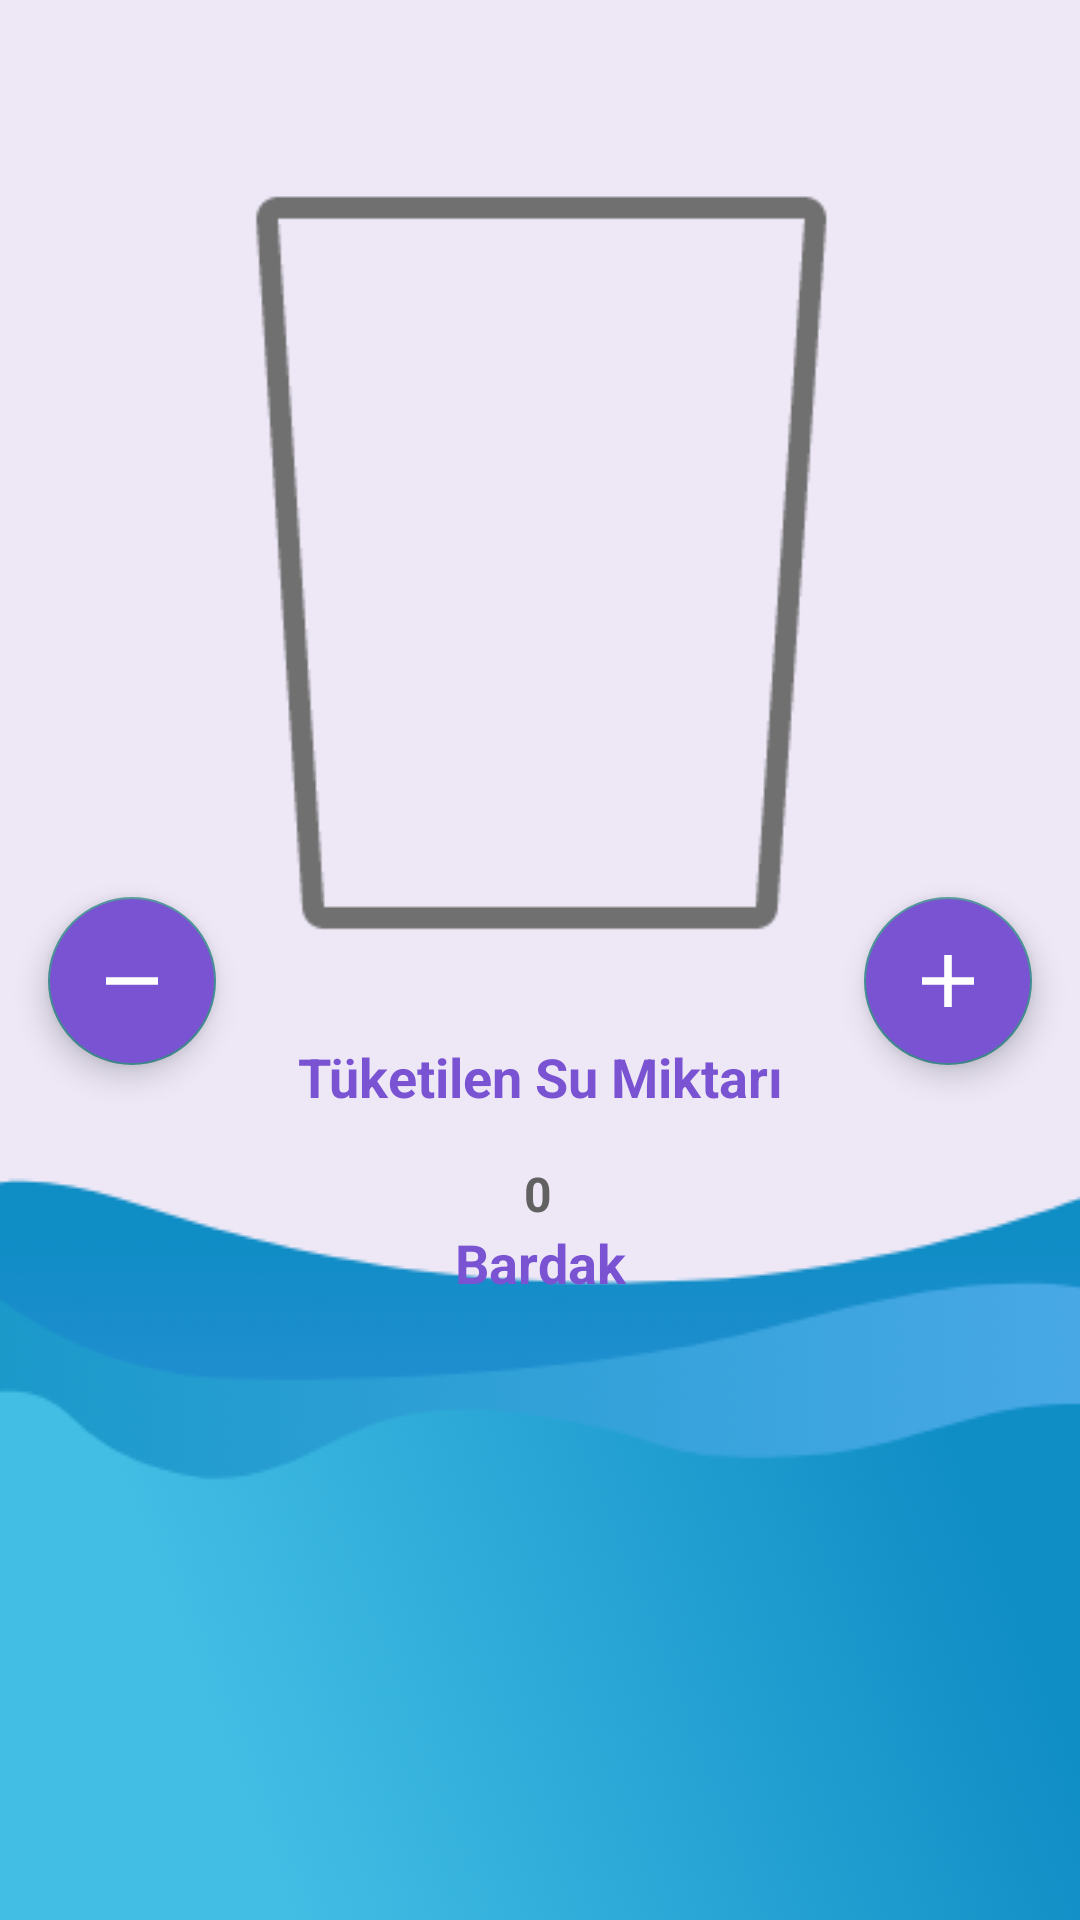

Named icons in this screenshot (1080w x 1920h) and their bounding boxes, bbox=[x1, y1, x2, y2]:
negative: bbox=[48, 897, 216, 1065]
positive: bbox=[864, 897, 1032, 1065]
